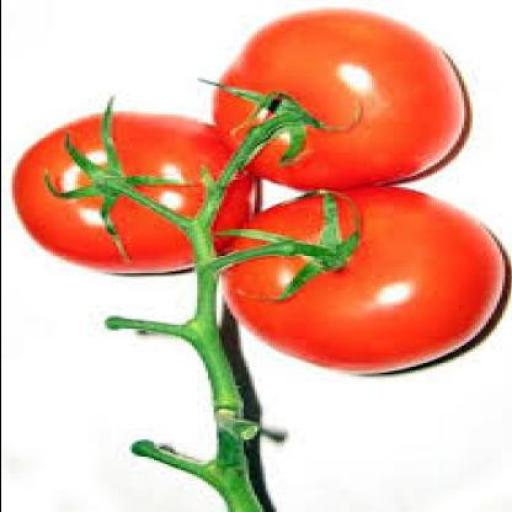biodegradable: (215, 185, 506, 375), (210, 10, 468, 187), (14, 102, 256, 272)
